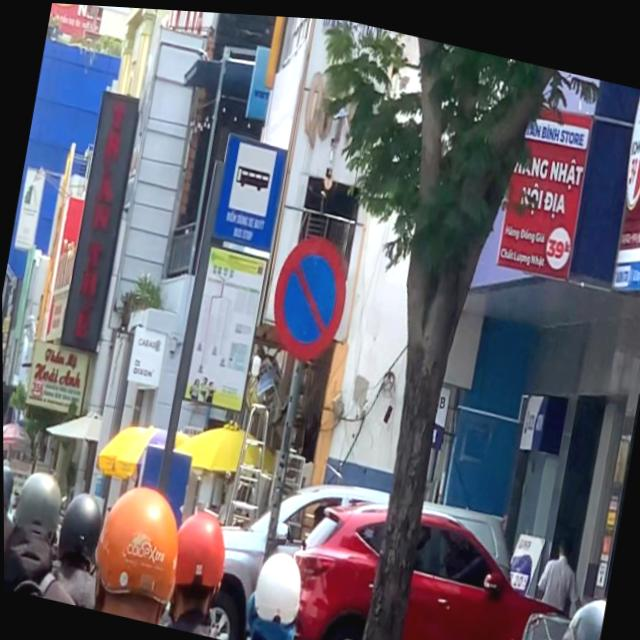Cam do xe: (262, 223, 355, 366)
